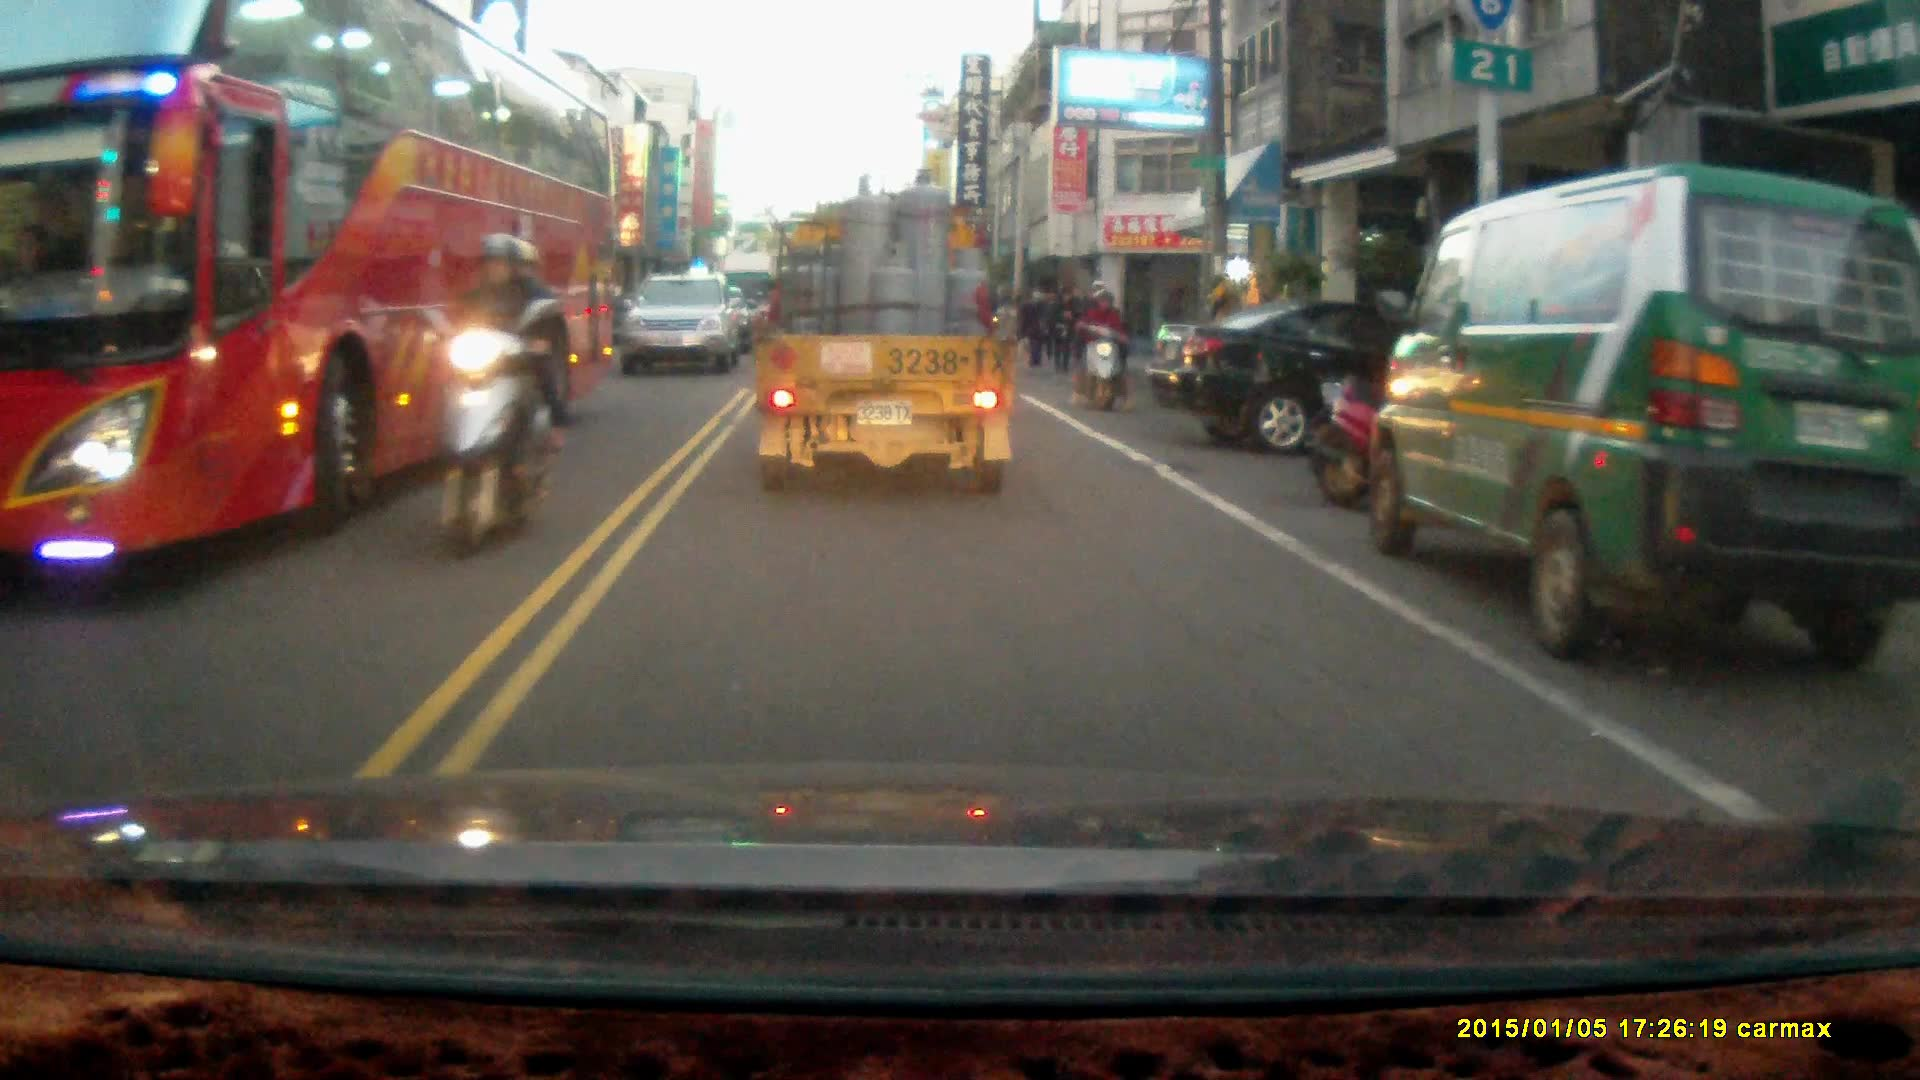pedestrian: (1049, 288, 1076, 380), (1019, 288, 1051, 366)
rider: (411, 231, 575, 561), (1075, 280, 1135, 416)
vehicle: (1, 7, 627, 568), (1375, 161, 1912, 666), (749, 168, 1018, 497), (1163, 296, 1408, 462), (618, 275, 743, 380)
